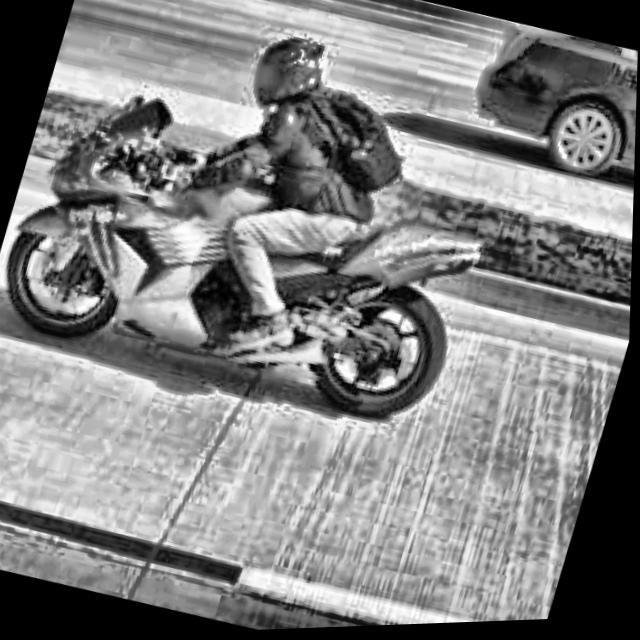motorcycle: (0, 68, 533, 458)
